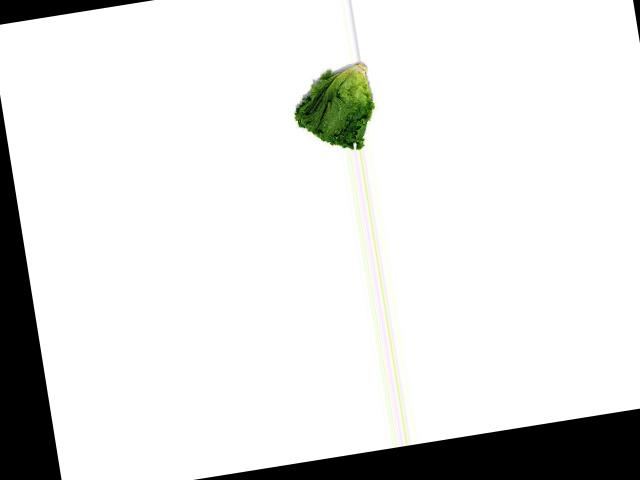lettuce: (280, 57, 387, 159)
